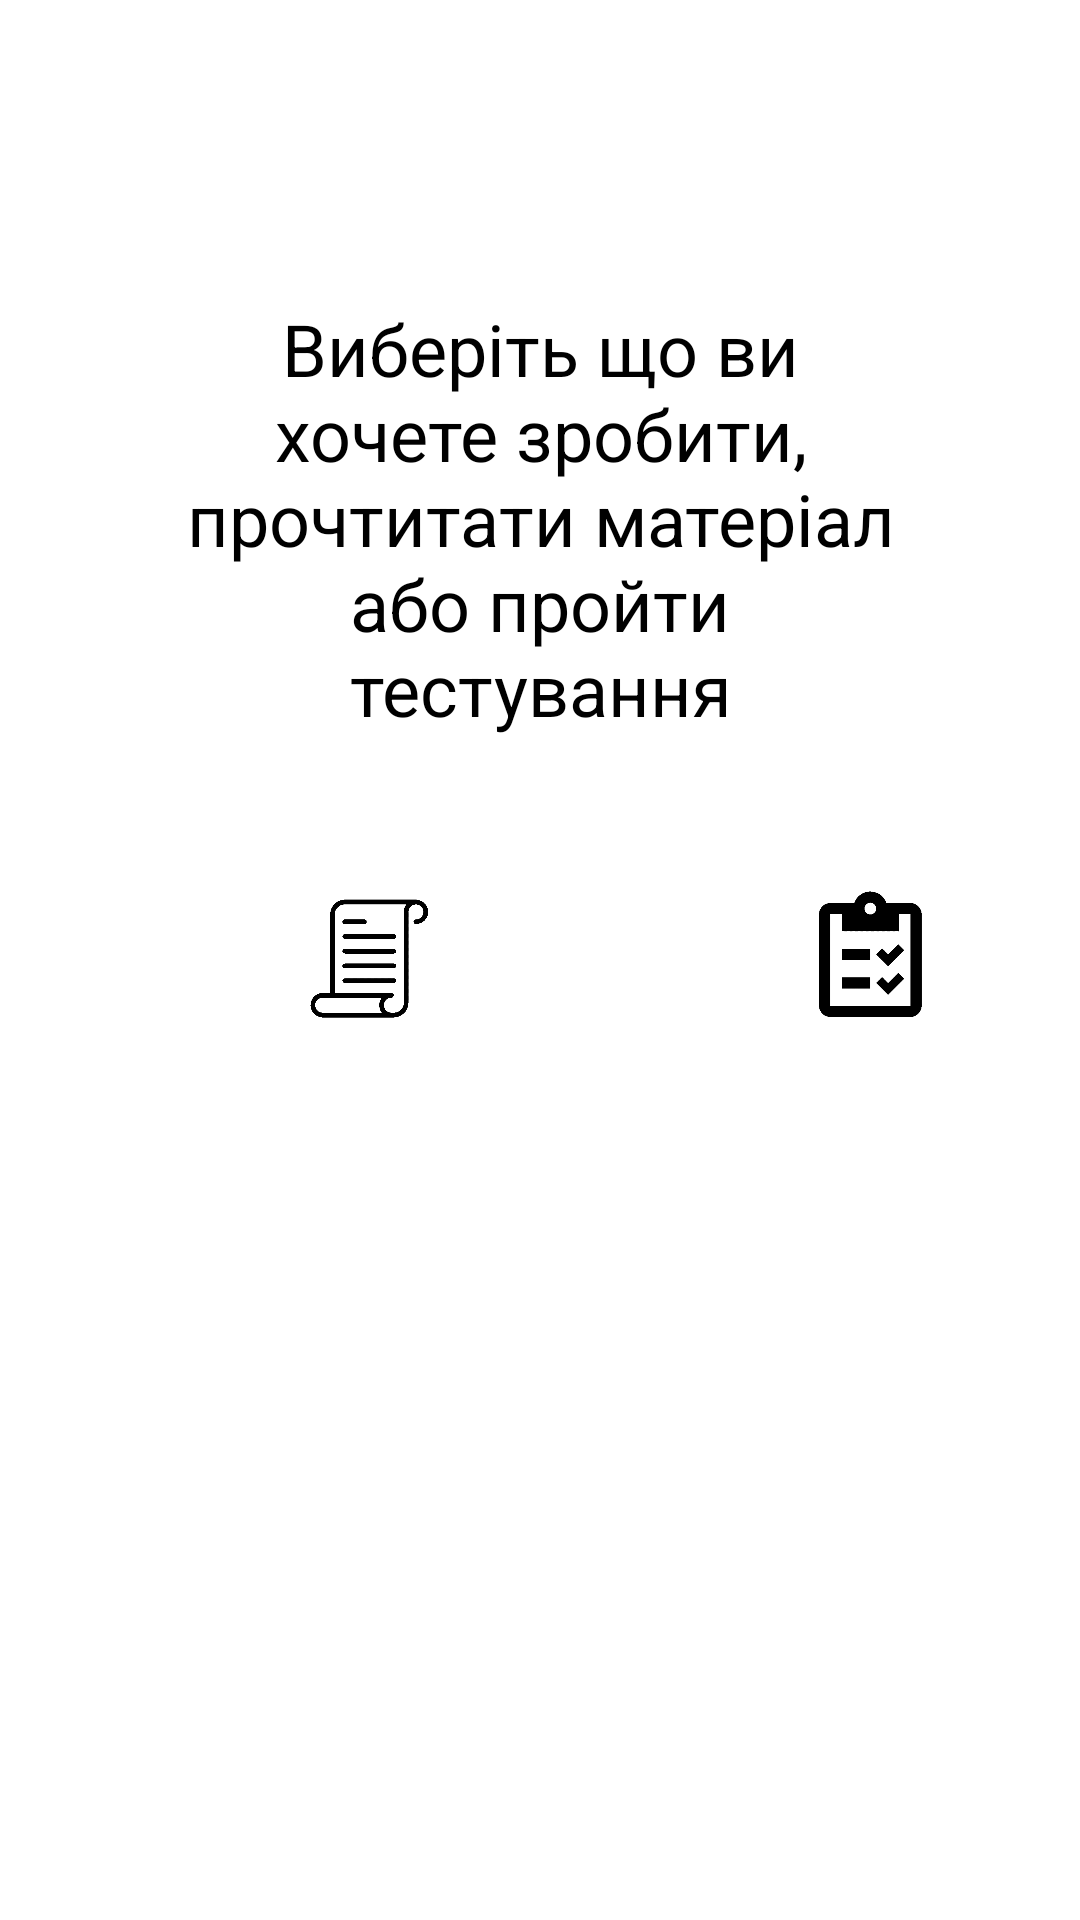

Where icons sit on this 1080 × 1920 app screen, as [x1=x1, y1=y1, x2=x2, y2=y2]:
text: [x1=310, y1=899, x2=428, y2=1018]
